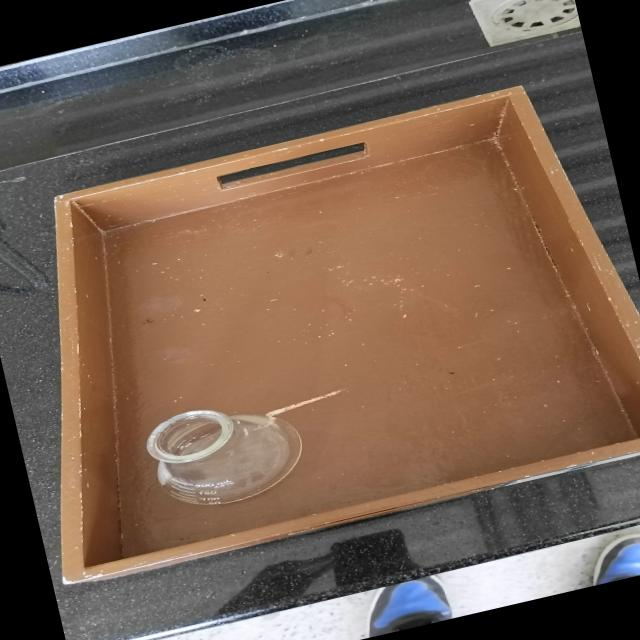erlenmeyer_flask: (102, 380, 327, 532)
